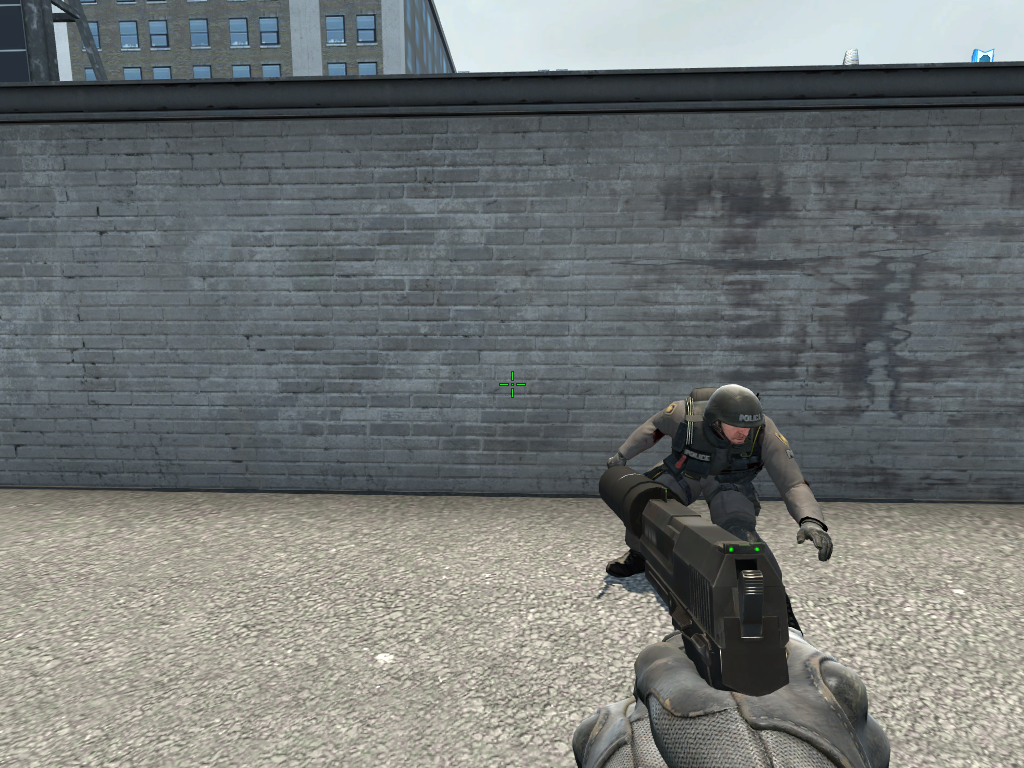ct head: (702, 380, 767, 453)
